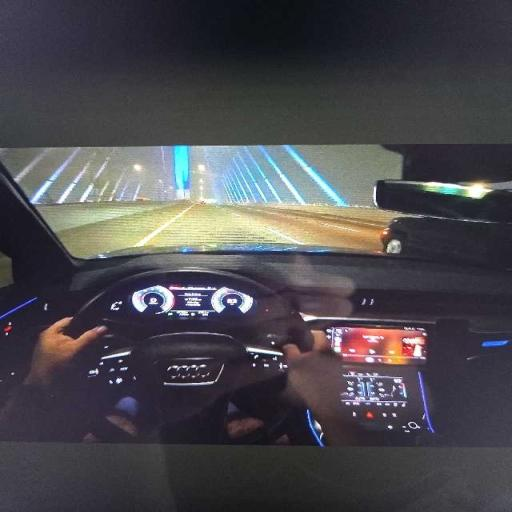car: (0, 147, 511, 445), (380, 217, 511, 265)
lane: (59, 202, 384, 256), (224, 206, 385, 251), (58, 202, 186, 257), (152, 205, 297, 246)
person: (0, 318, 107, 440)
